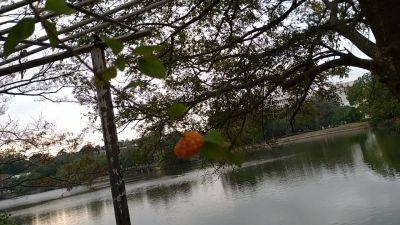eggs: (172, 128, 206, 159)
